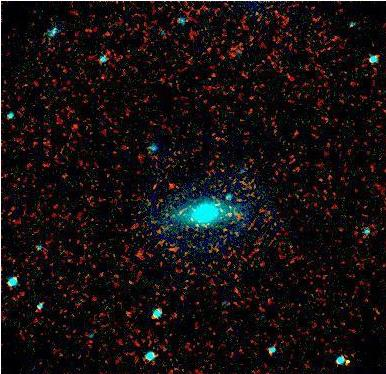star: (174, 203, 204, 233)
